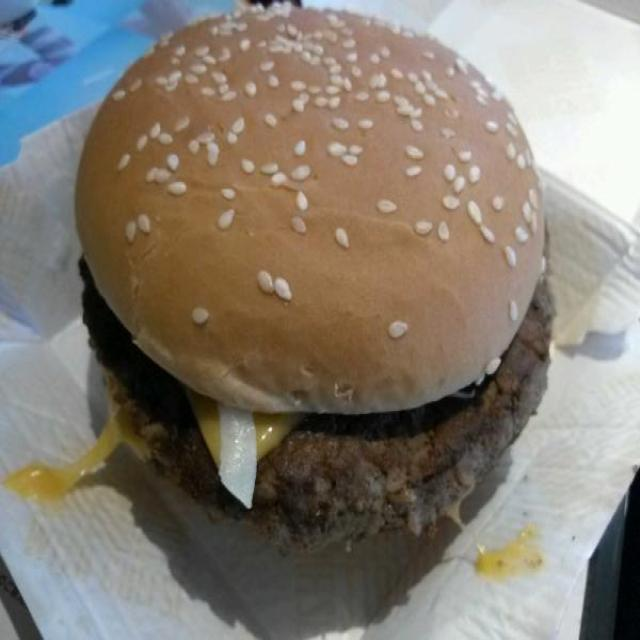Hamburger: (59, 0, 566, 553)
